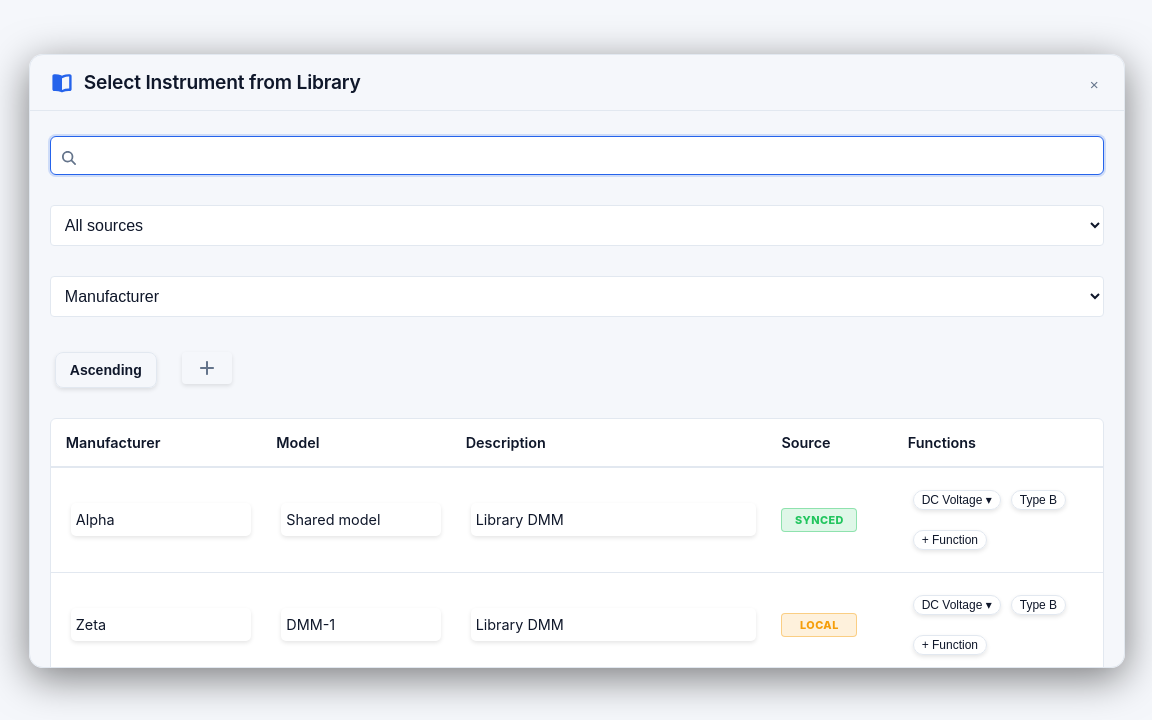
Scenario: filters and sorts library instruments
The image size is (1152, 720).
Click the button with aria-label "Reverse instrument sort".
click(106, 370)  # box [55,352,157,388]
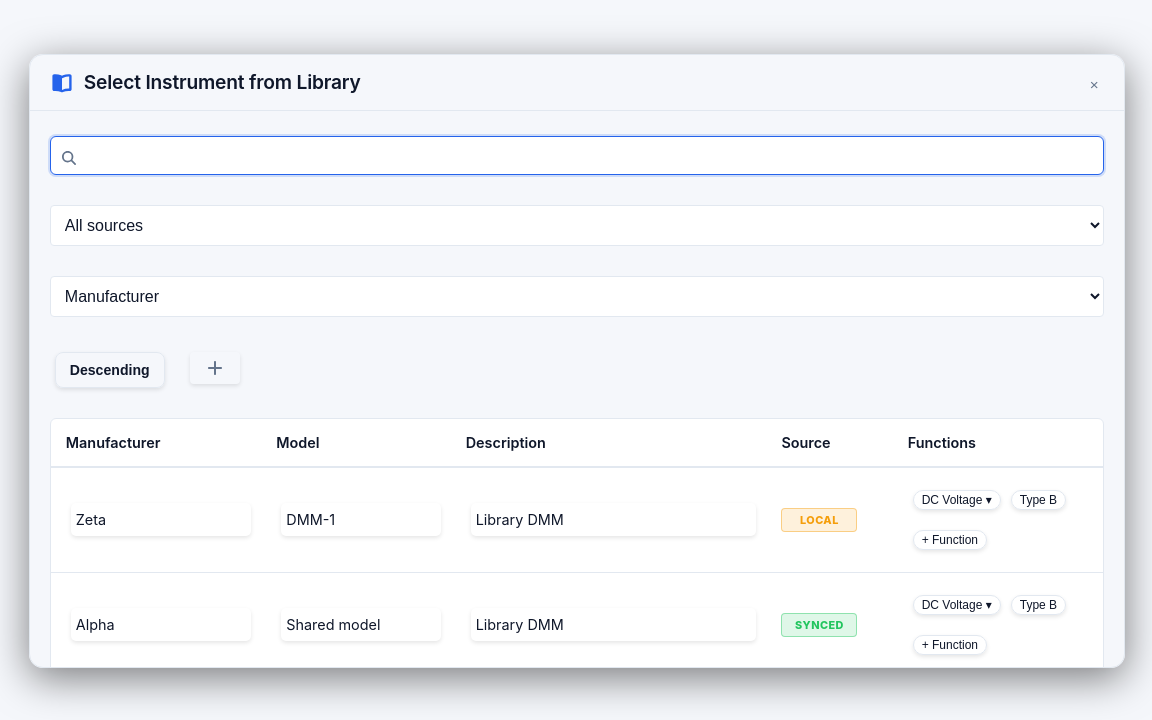
Select "Shared" in the dropdown named "Filter instrument source" at [577, 225], box [50,205,1104,246]
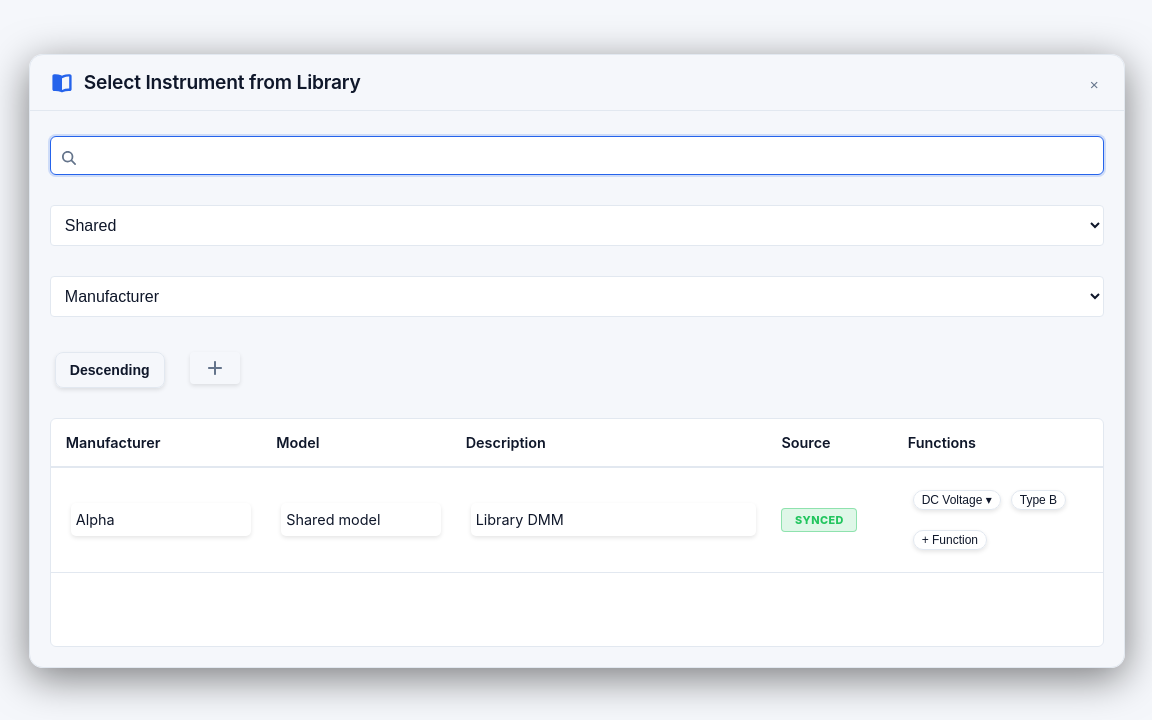
Type "missing" into the field named "Search instruments".
click(577, 155); type("missing")  # box [50,136,1104,175]
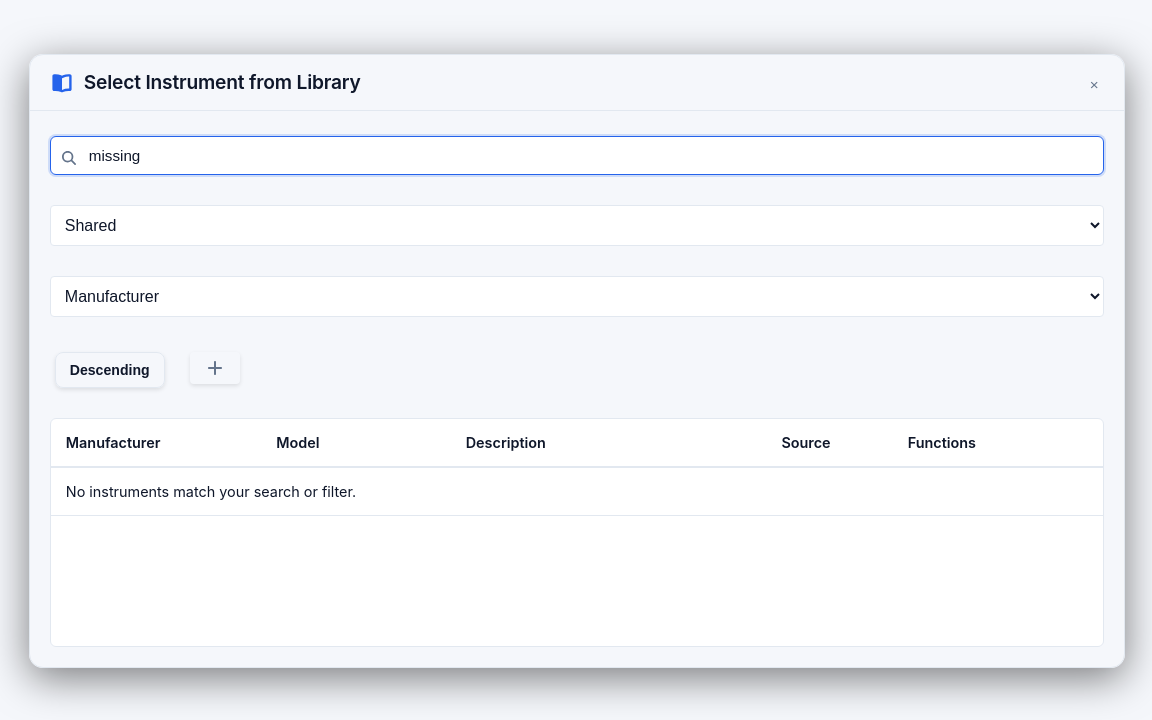
Expected: the text "No instruments match your search or filter." is shown, [51,467,1103,515]
